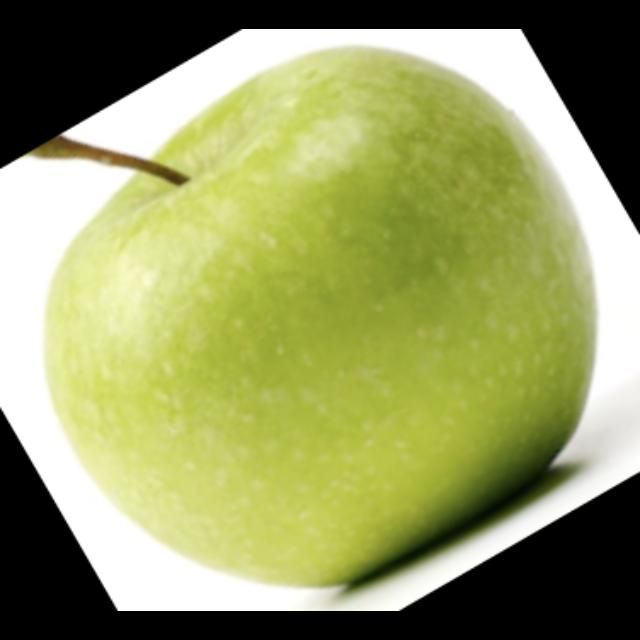Apel Segar: (5, 61, 613, 573)
